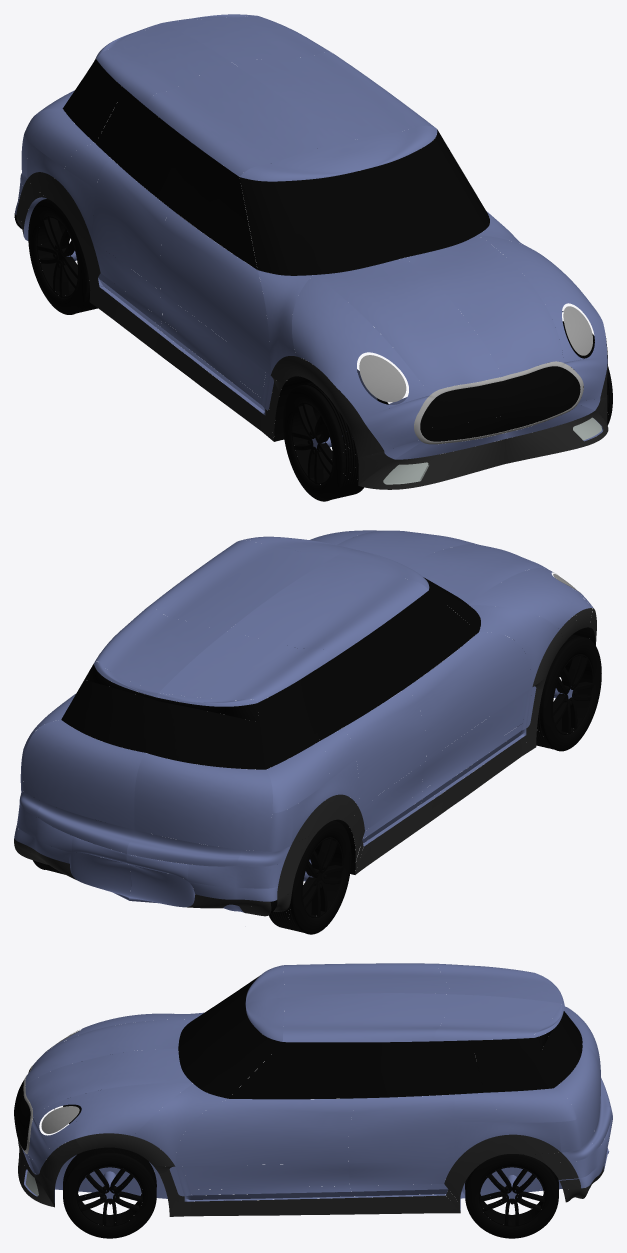
File: minisite.glb
3 renders of one model, top to bottom at view 1: azimuth 30°, elevation 25°; view 2: azimuth 150°, elevation 25°; view 3: azimuth 270°, elevation 25°, orthographic. The views are drawn at different scales.
Size of the model in its own units: 3.61 by 3.02 by 8.48.
